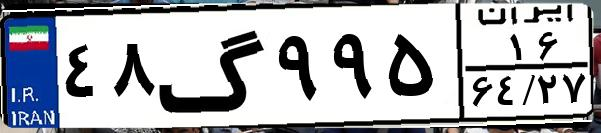1: (508, 27, 537, 80)
2: (535, 70, 560, 125)
4: (57, 26, 110, 100), (495, 70, 520, 125)
5: (385, 28, 445, 110)
6: (537, 27, 568, 80), (470, 70, 495, 125)
7: (560, 70, 590, 125)
8: (110, 28, 156, 98)
9: (270, 28, 330, 110), (330, 28, 385, 110)
گ: (156, 12, 270, 120)
